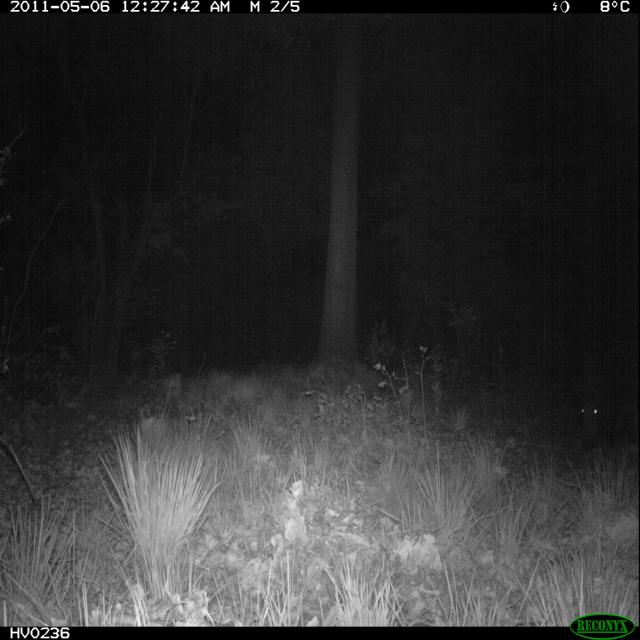boar: (542, 349, 638, 458)
